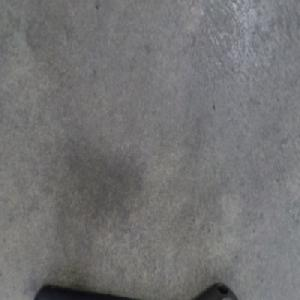AdjustableWrench: (36, 274, 237, 300)
